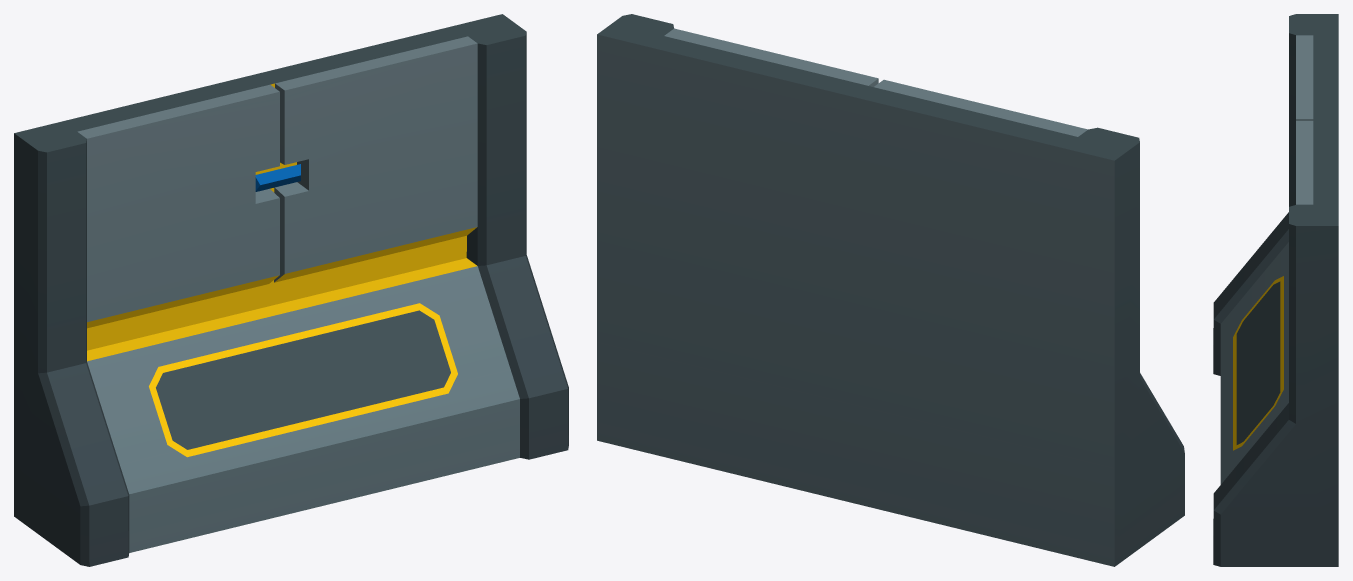
The model's file is Wall_type_C_030.fbx.
3 renders of one model, left to right at view 1: azimuth 30°, elevation 25°; view 2: azimuth 150°, elevation 25°; view 3: azimuth 270°, elevation 25°, orthographic. The views are drawn at different scales.
Visible parts, largest first — view 1: Wall_type_C_030; view 2: Wall_type_C_030; view 3: Wall_type_C_030.
Boxes of the visible parts, x1,y1,x2,y2 form: Wall_type_C_030: [14, 14, 568, 566]; Wall_type_C_030: [597, 14, 1184, 566]; Wall_type_C_030: [1213, 14, 1338, 566].
Bounding box in the file's own units: 200 × 50 × 150.
